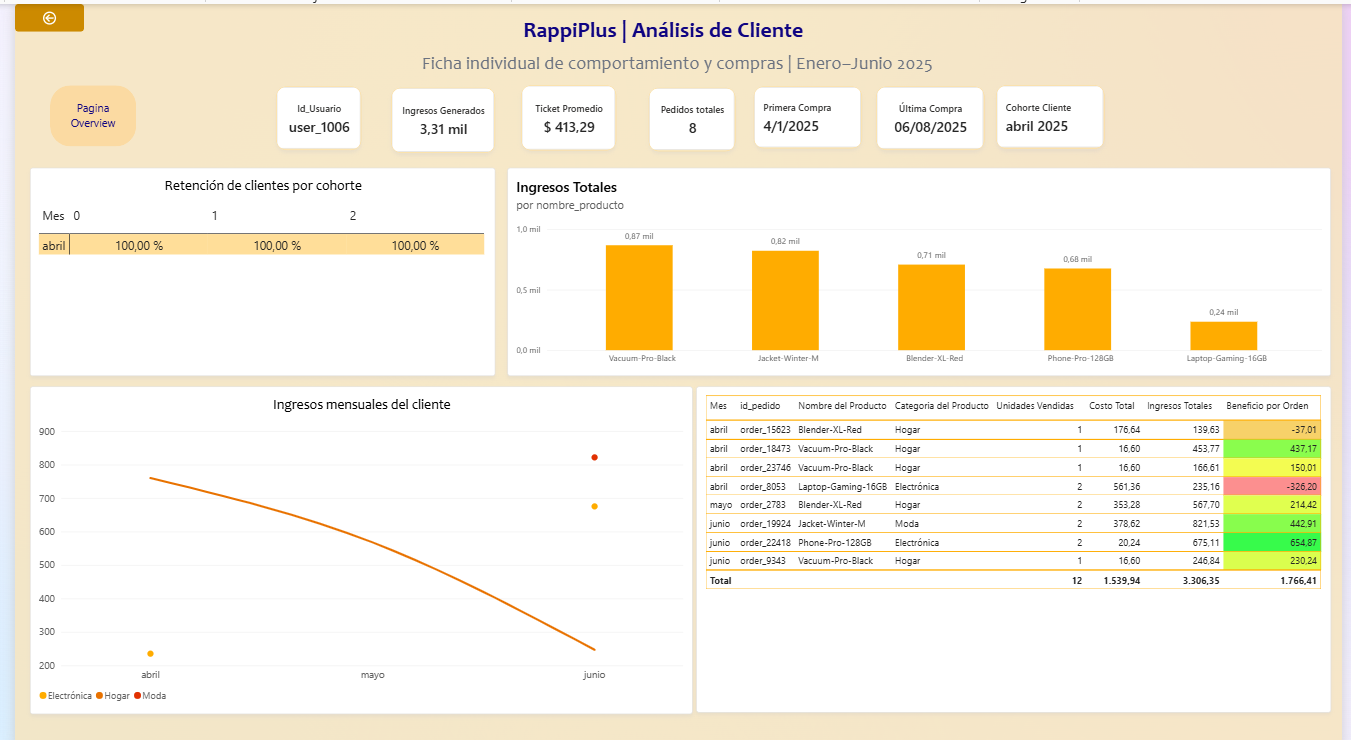

This screenshot's page, from the dashboard's own definition file:
{"tool":"powerbi","page":{"name":"Cliente","canvas":[1920,1080],"ordinal":3},"visuals":[{"type":"cardVisual","fields":{"Data":["Min(orders_clean.id_usuario)"]},"box":[378.2,119.4,123.3,91.9],"z":0},{"type":"cardVisual","fields":{"Data":["orders_clean.Ingresos Totales"]},"box":[544.7,121.2,150.5,94],"z":1000},{"type":"cardVisual","fields":{"Data":["orders_clean.Ticket Promedio"]},"box":[732.9,117.6,137.9,94],"z":2000},{"type":"cardVisual","fields":{"Data":["orders_clean.Pedidos totales"]},"box":[917.5,121.2,125.4,91.9],"z":3000},{"type":"textbox","box":[711.7,18.3,454.9,75.2],"z":4000},{"type":"textbox","box":[564.9,67.9,788.7,49.5],"z":5000},{"type":"lineChart","title":"Ingresos mensuales del cliente","fields":{"Category":["DimFecha.Date.Variación.Jerarquía de fechas.Mes"],"Series":["orders_clean.categoria_producto"],"Y":["orders_clean.Ingresos Totales"]},"box":[20.9,553.8,959.2,474.4],"z":6000},{"type":"cardVisual","fields":{"Data":["DimFecha.Última Compra"]},"box":[1246.9,119.4,156.7,91.9],"z":7000},{"type":"tableEx","fields":{"Values":["DimFecha.Date.Variación.Jerarquía de fechas.Mes","orders_clean.id_pedido","orders_clean.nombre_producto","orders_clean.categoria_producto","orders_clean.Unidades Vendidas","orders_clean.Costo total","orders_clean.Ingresos Totales","orders_clean.Beneficio por Orden"]},"box":[986.3,553.8,919.5,472.3],"z":8000},{"type":"actionButton","box":[0,0,100,40],"z":9000},{"type":"pivotTable","title":"Retención de clientes por cohorte","fields":{"Columns":["orders_clean.Mes Relativo"],"Rows":["orders_clean.Cohorte.Variación.Jerarquía de fechas.Mes"],"Values":["orders_clean.% Retención"]},"box":[21.7,236.7,673.3,301.9],"z":11000},{"type":"clusteredColumnChart","fields":{"Category":["orders_clean.nombre_producto"],"Y":["orders_clean.Ingresos Totales"]},"box":[712.4,236.7,1192.4,301.9],"z":12000},{"type":"cardVisual","fields":{"Data":["DimFecha.Primera Compra"]},"box":[1069.5,119.4,156.7,89.9],"z":13000},{"type":"cardVisual","fields":{"Data":["orders_clean.Cohorte Cliente"]},"box":[1420.6,117.6,156.7,91.9],"z":14000},{"type":"actionButton","box":[50.7,117.6,124.9,88.7],"z":17001}]}

Visuals, with their boxes in screenshot pixels (x1, y1, x2, y2), scaled from the page's 1920x1080 canvas onto the 1351x740 screenshot:
cardVisual - Min(orders_clean.id_usuario): {"left": 266, "top": 82, "right": 353, "bottom": 145}
cardVisual - orders_clean.Ingresos Totales: {"left": 383, "top": 83, "right": 489, "bottom": 147}
cardVisual - orders_clean.Ticket Promedio: {"left": 516, "top": 81, "right": 613, "bottom": 145}
cardVisual - orders_clean.Pedidos totales: {"left": 646, "top": 83, "right": 734, "bottom": 146}
textbox: {"left": 501, "top": 13, "right": 821, "bottom": 64}
textbox: {"left": 397, "top": 47, "right": 952, "bottom": 80}
"Ingresos mensuales del cliente" lineChart: {"left": 15, "top": 379, "right": 690, "bottom": 705}
cardVisual - DimFecha.Última Compra: {"left": 877, "top": 82, "right": 988, "bottom": 145}
tableEx - DimFecha.Date.Variación.Jerarquía de fechas.Mes x orders_clean.id_pedido: {"left": 694, "top": 379, "right": 1341, "bottom": 703}
actionButton: {"left": 0, "top": 0, "right": 70, "bottom": 27}
"Retención de clientes por cohorte" pivotTable: {"left": 15, "top": 162, "right": 489, "bottom": 369}
clusteredColumnChart - orders_clean.nombre_producto x orders_clean.Ingresos Totales: {"left": 501, "top": 162, "right": 1340, "bottom": 369}
cardVisual - DimFecha.Primera Compra: {"left": 753, "top": 82, "right": 863, "bottom": 143}
cardVisual - orders_clean.Cohorte Cliente: {"left": 1000, "top": 81, "right": 1110, "bottom": 144}
actionButton: {"left": 36, "top": 81, "right": 124, "bottom": 141}
